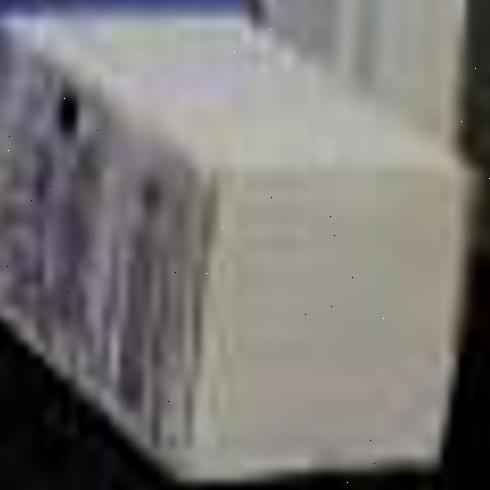Other: (0, 6, 445, 475)
